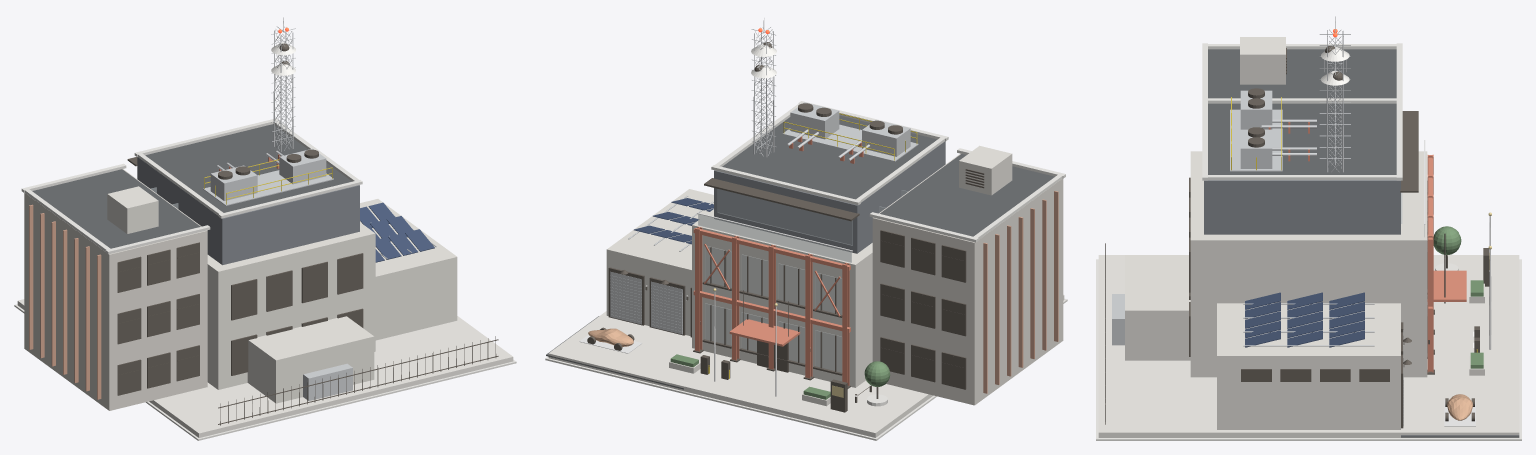
The model's file is hq_01_corporate_l3.glb.
3 views of the same model, side by side, from view 1: azimuth 30°, elevation 25°; view 2: azimuth 150°, elevation 25°; view 3: azimuth 270°, elevation 25° (orthographic). The views are drawn at different scales.
Parts seen in each view (by area): view 1: GEO_West_Wing_Core, GEO_Plinth_Base, GEO_Heritage_Block_Core, GEO_Penthouse_Core, GEO_Data_Annex_Core, GEO_Workshop_Core, GEO_Penthouse_Roof_Deck, GEO_West_Roof_Deck, GEO_West_Elevator_Overrun, GEO_Data_Chiller_Manifold, GEO_Plinth_Curb, GEO_HVAC_Catwalk_Deck (+30 smaller); view 2: GEO_West_Wing_Core, GEO_Heritage_Block_Core, GEO_Plinth_Base, GEO_Penthouse_Core, GEO_Penthouse_Roof_Deck, GEO_West_Roof_Deck, GEO_Workshop_Core, GEO_Penthouse_Ribbon_Glass, GEO_West_Elevator_Overrun, GEO_Penthouse_Balcony_Rail, GEO_Penthouse_Sunshade, GEO_Plinth_Curb (+44 smaller); view 3: GEO_Plinth_Base, GEO_Heritage_Block_Core, GEO_Workshop_Core, GEO_Penthouse_Core, GEO_Penthouse_Roof_Deck, GEO_West_Roof_Deck, GEO_Data_Annex_Core, GEO_Plinth_Curb, GEO_West_Elevator_Overrun, GEO_Penthouse_Sunshade, GEO_HVAC_Catwalk_Deck, GEO_Penthouse_Coping_E (+13 smaller).
Boxes of the visible parts, x1,y1,x2,y2 form: GEO_West_Wing_Core: [24, 169, 207, 410]; GEO_Plinth_Base: [17, 299, 513, 437]; GEO_Heritage_Block_Core: [207, 222, 375, 389]; GEO_Penthouse_Core: [137, 157, 359, 265]; GEO_Data_Annex_Core: [247, 316, 374, 403]; GEO_Workshop_Core: [360, 199, 457, 340]; GEO_Penthouse_Roof_Deck: [145, 124, 351, 212]; GEO_West_Roof_Deck: [32, 169, 200, 248]; GEO_West_Elevator_Overrun: [107, 186, 158, 233]; GEO_Data_Chiller_Manifold: [303, 363, 352, 400]; GEO_Plinth_Curb: [14, 304, 516, 440]; GEO_HVAC_Catwalk_Deck: [203, 170, 333, 205]; GEO_West_Wing_Core: [872, 153, 1063, 405]; GEO_Heritage_Block_Core: [692, 209, 872, 387]; GEO_Plinth_Base: [548, 294, 1064, 437]; GEO_Penthouse_Core: [714, 141, 945, 253]; GEO_Penthouse_Roof_Deck: [722, 115, 937, 199]; GEO_West_Roof_Deck: [880, 154, 1054, 236]; GEO_Workshop_Core: [606, 189, 713, 335]; GEO_Penthouse_Ribbon_Glass: [717, 189, 852, 245]; GEO_West_Elevator_Overrun: [959, 145, 1012, 195]; GEO_Penthouse_Balcony_Rail: [698, 214, 851, 262]; GEO_Penthouse_Sunshade: [704, 178, 859, 221]; GEO_Plinth_Curb: [545, 298, 1067, 440]; GEO_Plinth_Base: [1098, 255, 1519, 437]; GEO_Heritage_Block_Core: [1190, 151, 1427, 377]; GEO_Workshop_Core: [1217, 303, 1400, 429]; GEO_Penthouse_Core: [1204, 180, 1400, 234]; GEO_Penthouse_Roof_Deck: [1208, 103, 1396, 174]; GEO_West_Roof_Deck: [1208, 49, 1396, 98]; GEO_Data_Annex_Core: [1125, 255, 1190, 360]; GEO_Plinth_Curb: [1096, 259, 1521, 440]; GEO_West_Elevator_Overrun: [1240, 37, 1285, 84]; GEO_Penthouse_Sunshade: [1400, 111, 1418, 192]; GEO_HVAC_Catwalk_Deck: [1230, 109, 1282, 171]; GEO_Penthouse_Coping_E: [1202, 175, 1402, 180].
Size of what is drawn, in the model's own units: 37.12 by 29.7 by 32.4.
